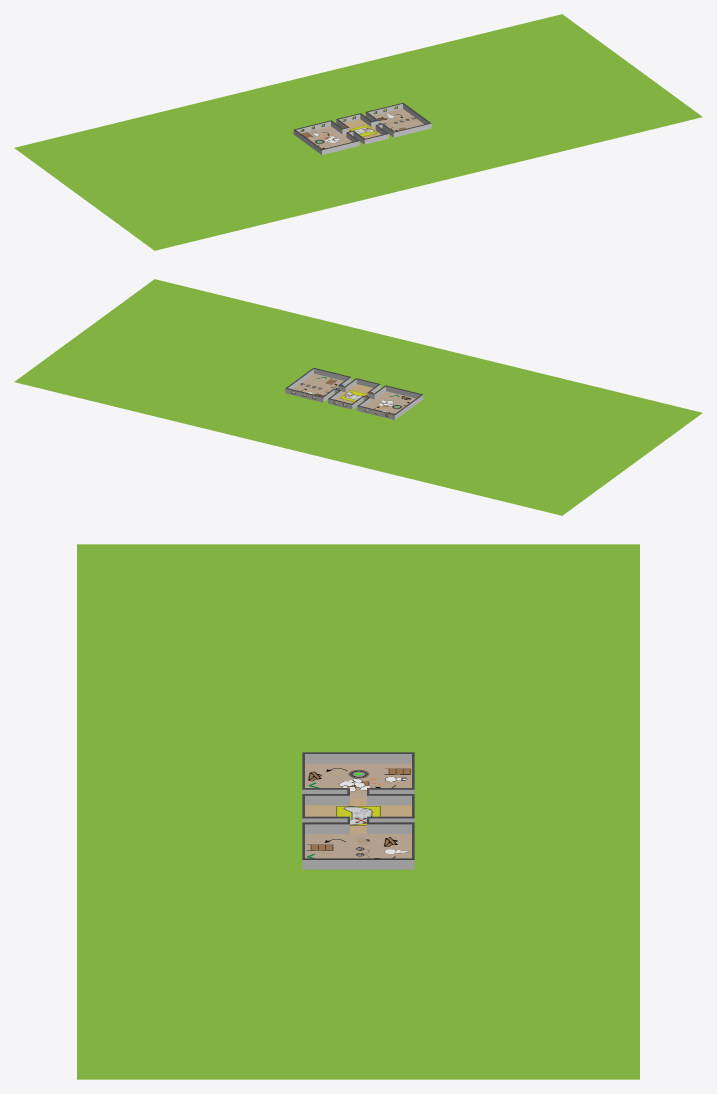
The model's file is SM_TutorialBuilding.fbx.
3 views of the same model, one above another, from view 1: azimuth 30°, elevation 25°; view 2: azimuth 150°, elevation 25°; view 3: azimuth 270°, elevation 25° (orthographic). The views are drawn at different scales.
Parts seen in each view (by area): view 1: TutorialBuilding; view 2: TutorialBuilding; view 3: TutorialBuilding.
Boxes of the visible parts, x1,y1,x2,y2 form: TutorialBuilding: (14, 14, 702, 250); TutorialBuilding: (14, 279, 702, 515); TutorialBuilding: (77, 544, 639, 1079).
Bounding box in the file's own units: 45000 × 530 × 20000.
